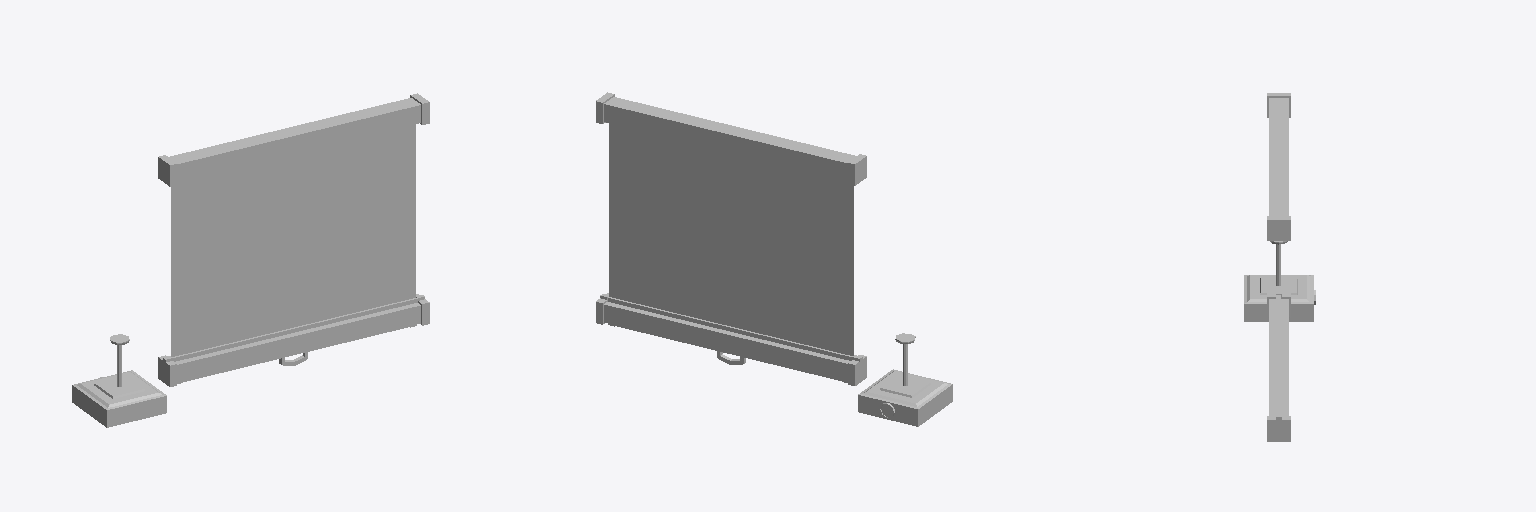
Rendered from projector screen Clost .obj.
The picture shows the model from 3 angles: view 1: azimuth 30°, elevation 25°; view 2: azimuth 150°, elevation 25°; view 3: azimuth 270°, elevation 25°; orthographic projection.
Visible parts, largest first — view 1: Cube, Cube.002, Cube.001; view 2: Cube, Cube.002, Cube.001; view 3: Cube, Cube.001, Cube.002.
Boxes of the visible parts, x1,y1,x2,y2 form: Cube: [158, 93, 429, 364]; Cube.002: [158, 294, 429, 386]; Cube.001: [72, 334, 166, 427]; Cube: [596, 92, 866, 362]; Cube.002: [596, 293, 866, 385]; Cube.001: [858, 333, 952, 426]; Cube: [1267, 93, 1290, 422]; Cube.001: [1244, 241, 1315, 321]; Cube.002: [1267, 293, 1290, 441].
Bounding box in the file's own units: 15.53 × 10.48 × 2.9.